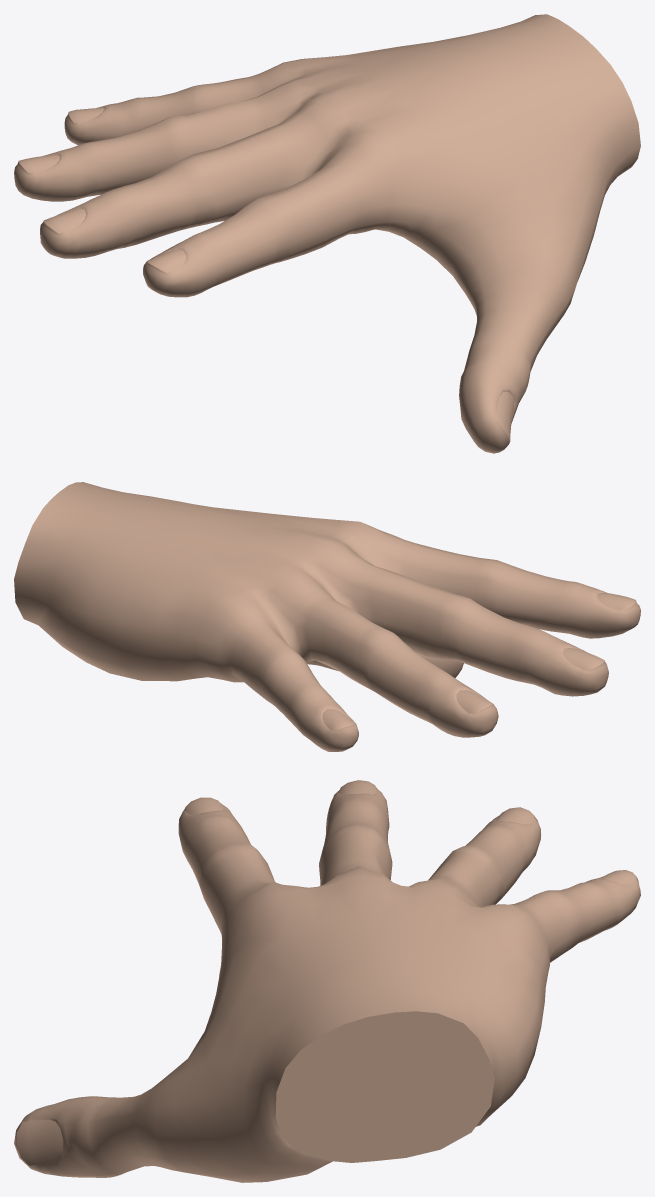
File: hand.glb
3 views of the same model, one above another, from view 1: azimuth 30°, elevation 25°; view 2: azimuth 150°, elevation 25°; view 3: azimuth 270°, elevation 25° (orthographic). The views are drawn at different scales.
Parts seen in each view (by area): view 1: hand; view 2: hand; view 3: hand.
Boxes of the visible parts, left/top/right/bottom form: hand: left=14, top=14, right=640, bottom=453; hand: left=14, top=482, right=640, bottom=751; hand: left=14, top=780, right=640, bottom=1182.
Bounding box in the file's own units: 0.1995 × 0.0877 × 0.1721.
